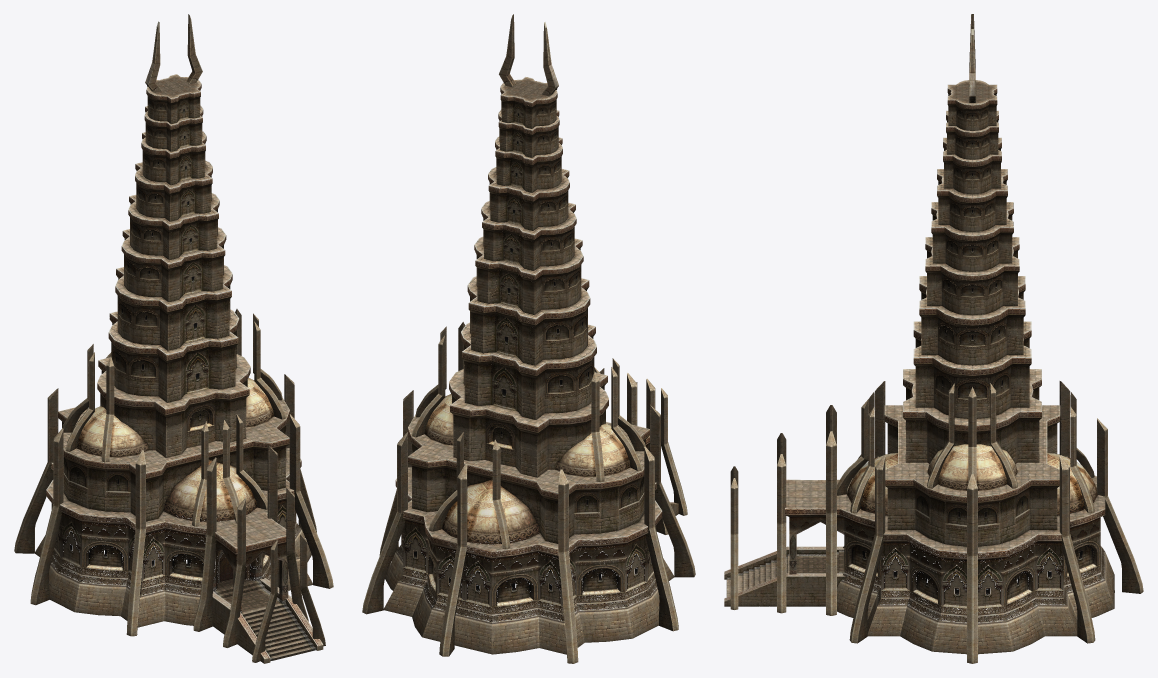
File: smh_dungeongate.fbx
The picture shows the model from 3 angles, left to right: view 1: azimuth 30°, elevation 25°; view 2: azimuth 150°, elevation 25°; view 3: azimuth 270°, elevation 25°; orthographic projection. The views are drawn at different scales.
Visible parts, largest first — view 1: K01; view 2: K01; view 3: K01.
Boxes of the visible parts, x1,y1,x2,y2 form: K01: (14,14,333,663); K01: (362,14,695,663); K01: (724,14,1143,663).
Bounding box in the file's own units: 65.69 × 121 × 80.48.
